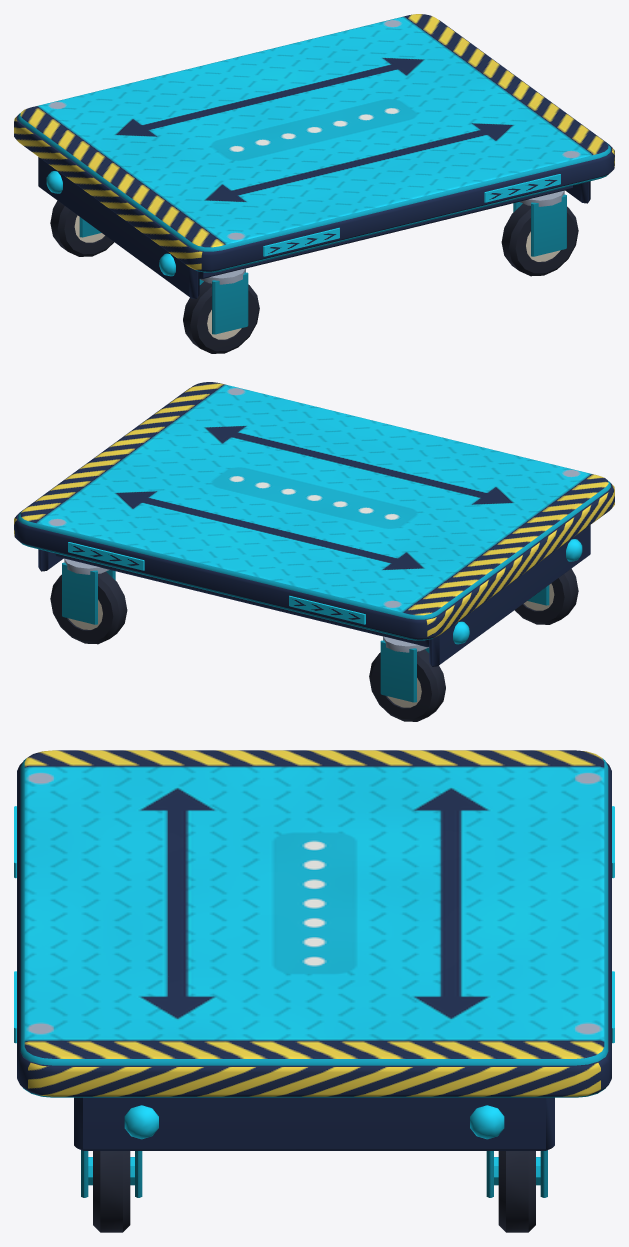
File: reception_mail_cart.glb
3 renders of one model, top to bottom at view 1: azimuth 30°, elevation 25°; view 2: azimuth 150°, elevation 25°; view 3: azimuth 270°, elevation 25°, orthographic. The views are drawn at different scales.
Parts seen in each view (by area): view 1: reception_mail_cart_LOD0; view 2: reception_mail_cart_LOD0; view 3: reception_mail_cart_LOD0.
Boxes of the visible parts, x1=… form: reception_mail_cart_LOD0: x1=14, y1=14, x2=614, y2=353; reception_mail_cart_LOD0: x1=14, y1=382, x2=614, y2=721; reception_mail_cart_LOD0: x1=14, y1=750, x2=614, y2=1232.
Size of the model in its own units: 10 by 3 by 8.
Materials: 1 (1 with a texture image).
